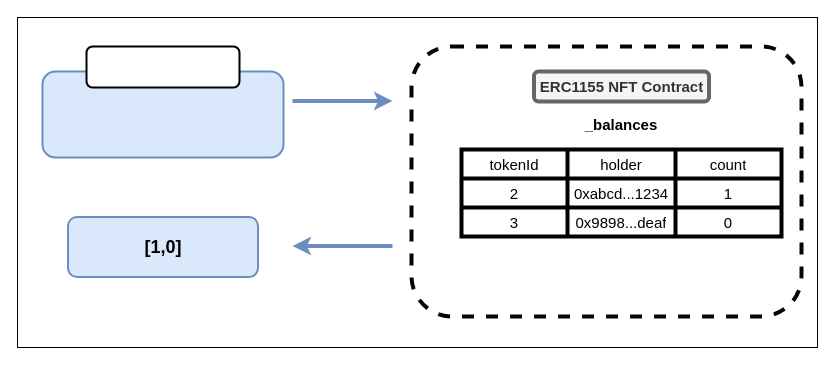
Image size: 835x365. Some labels were removed from this diagram. Each missing label, with the box of its shape:
anyone can call this function: (85, 45, 240, 88)
balanceOfBatch(holders: [0xabcd...1234,0x9898...deaf ], tokenId: [2,3]): (41, 70, 284, 158)
